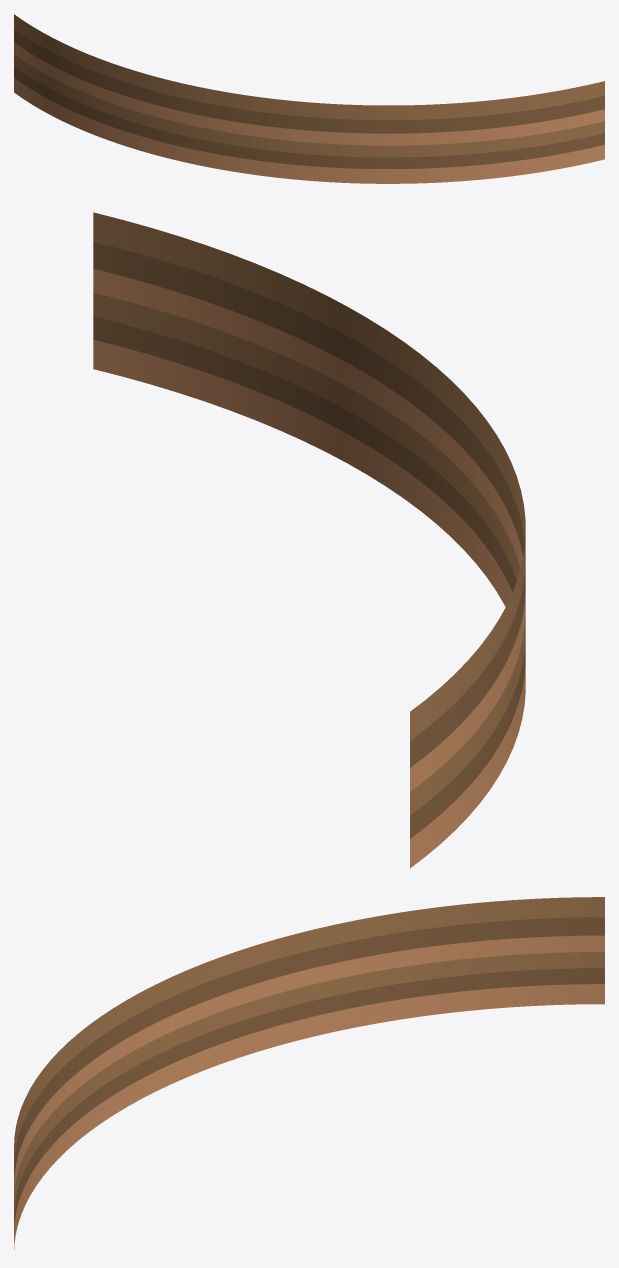
Rendered from platform_grass_corner_round5_center_tall.gltf.
The picture shows the model from 3 angles, top to bottom: view 1: azimuth 30°, elevation 25°; view 2: azimuth 150°, elevation 25°; view 3: azimuth 270°, elevation 25°; orthographic projection. The views are drawn at different scales.
Visible parts, largest first — view 1: Cube_Grass_Corner_Round5Center_Tall; view 2: Cube_Grass_Corner_Round5Center_Tall; view 3: Cube_Grass_Corner_Round5Center_Tall.
Part boxes in pixels (x1=…): Cube_Grass_Corner_Round5Center_Tall: x1=14, y1=14, x2=604, y2=183; Cube_Grass_Corner_Round5Center_Tall: x1=93, y1=212, x2=525, y2=868; Cube_Grass_Corner_Round5Center_Tall: x1=14, y1=897, x2=604, y2=1249.
Size of the model in its own units: 10 by 2 by 10.
